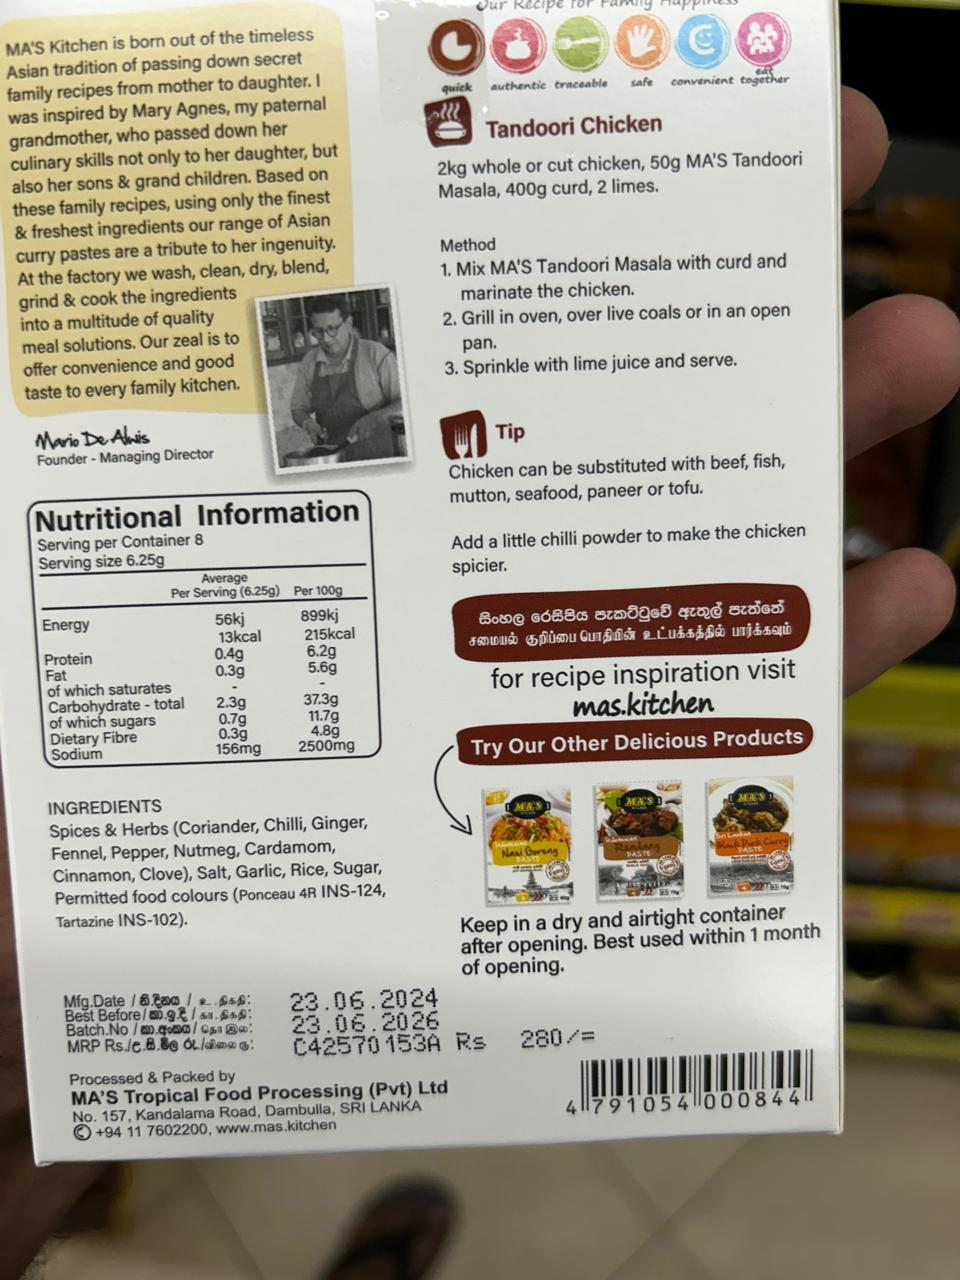ingredients: (35, 788, 422, 946)
